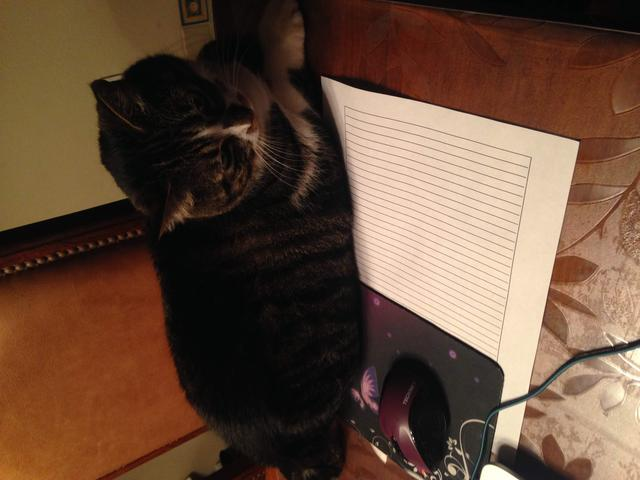playdoh: (89, 9, 365, 480)
